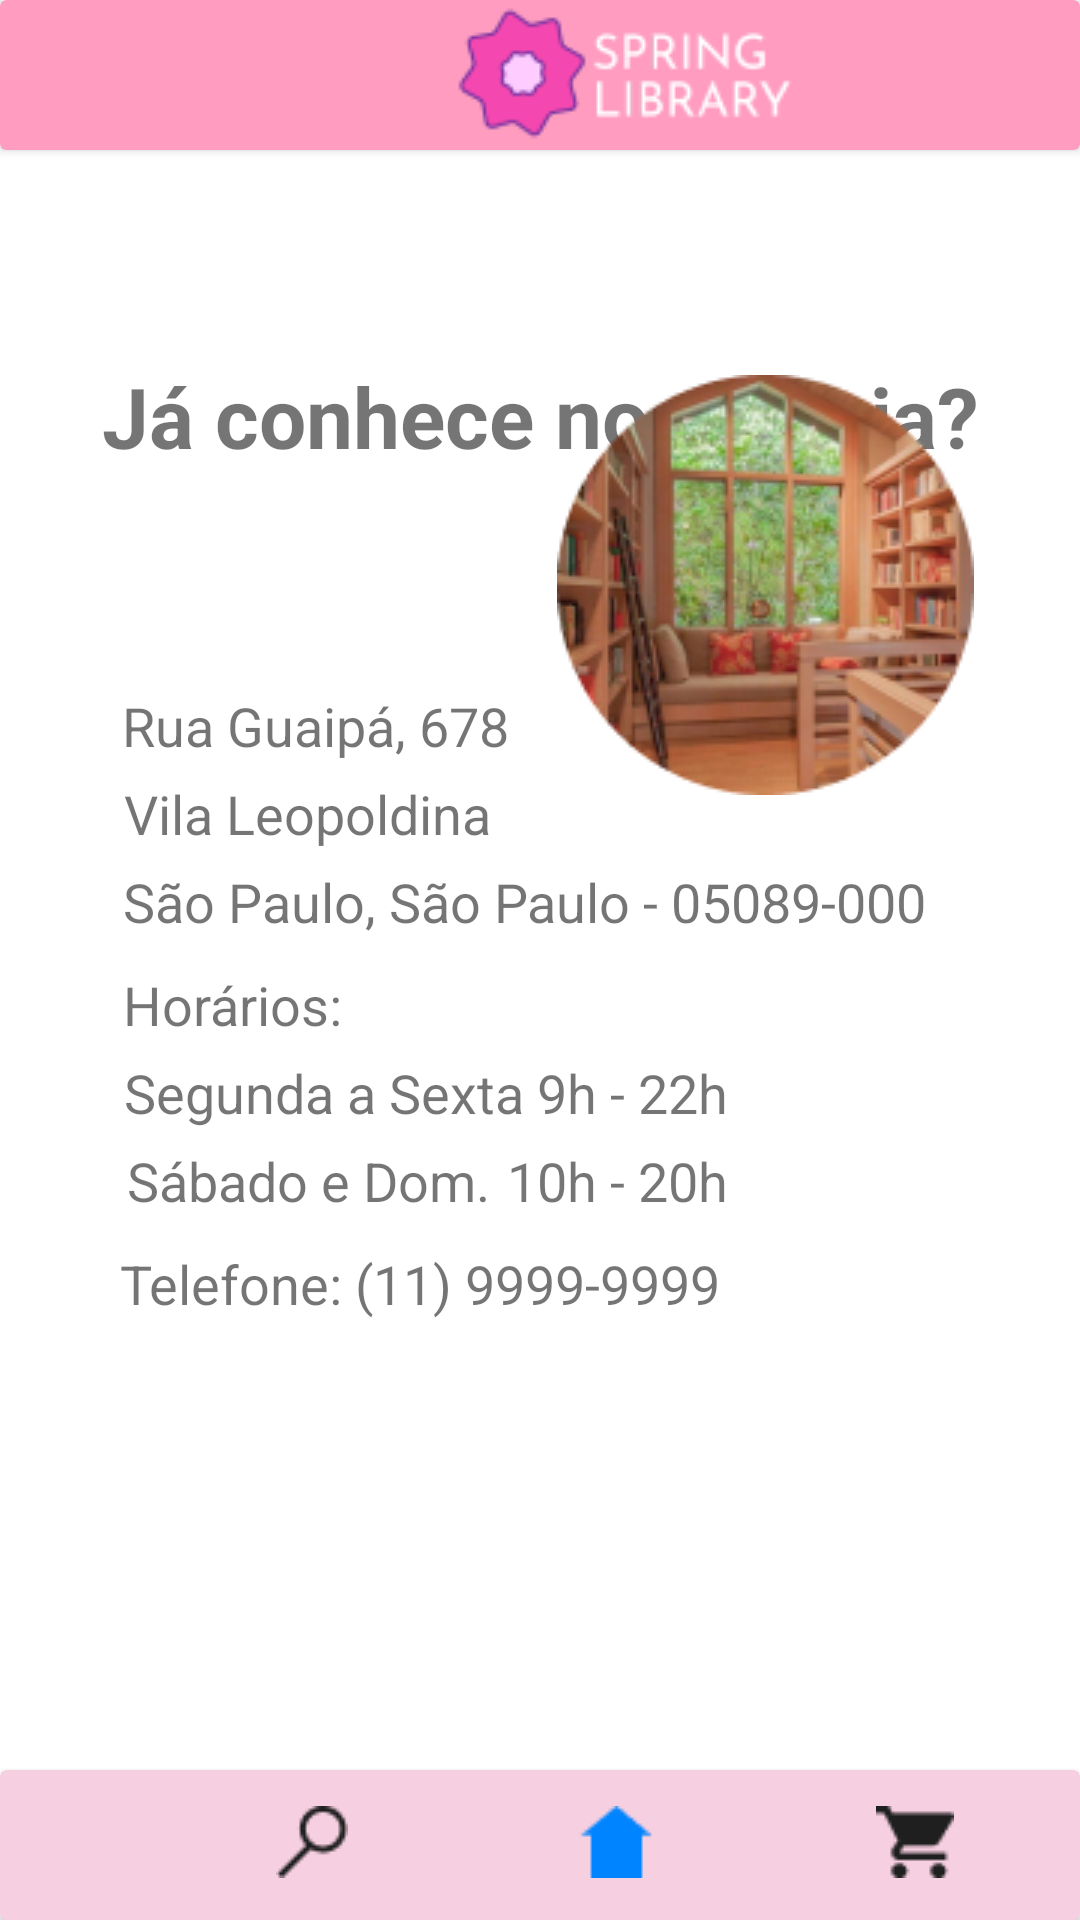

Named icons in this screenshot (1080*1920) and their centers, (x=x, y=y):
Carrinho: (x=915, y=1842)
Home: (x=616, y=1842)
iconsearchoff: (x=312, y=1842)
